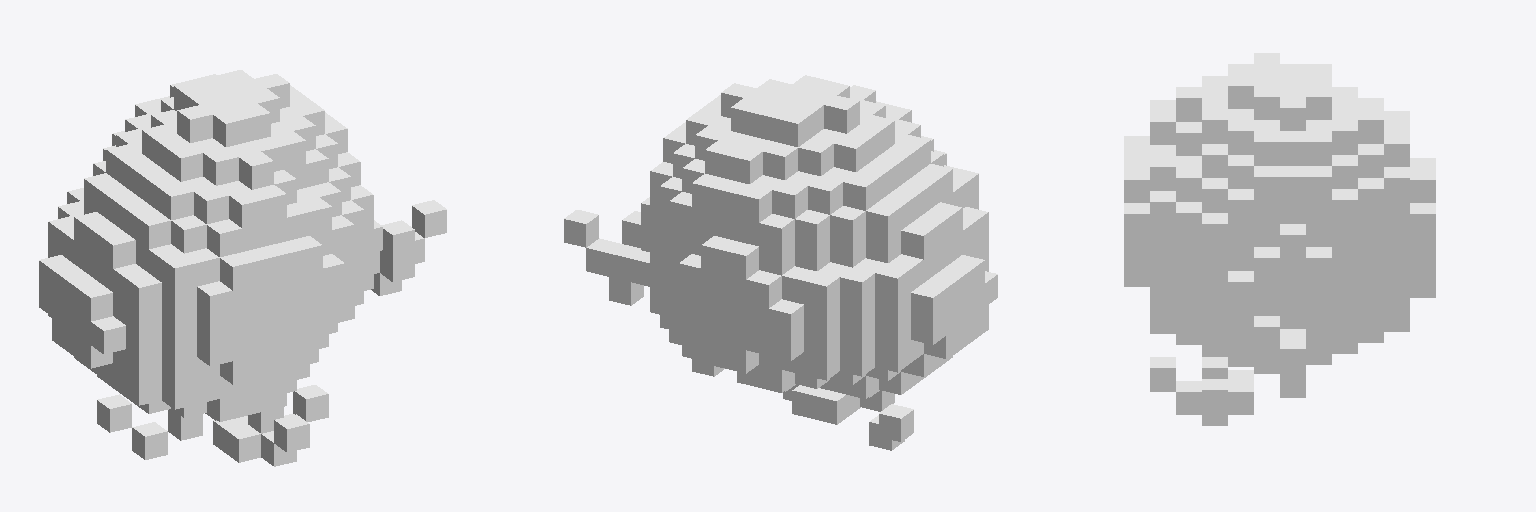
Rendered from PookaInflate1Quarter.obj.
3 views of the same model, side by side, from view 1: azimuth 30°, elevation 25°; view 2: azimuth 150°, elevation 25°; view 3: azimuth 270°, elevation 25° (orthographic).
Visible parts, largest first — view 1: object 1; view 2: object 1; view 3: object 1.
Boxes of the visible parts, <box> form: object 1: <box>39,70,446,466</box>; object 1: <box>564,75,997,450</box>; object 1: <box>1124,53,1435,425</box>.
Bounding box in the file's own units: 1.7 × 1.4 × 1.2.